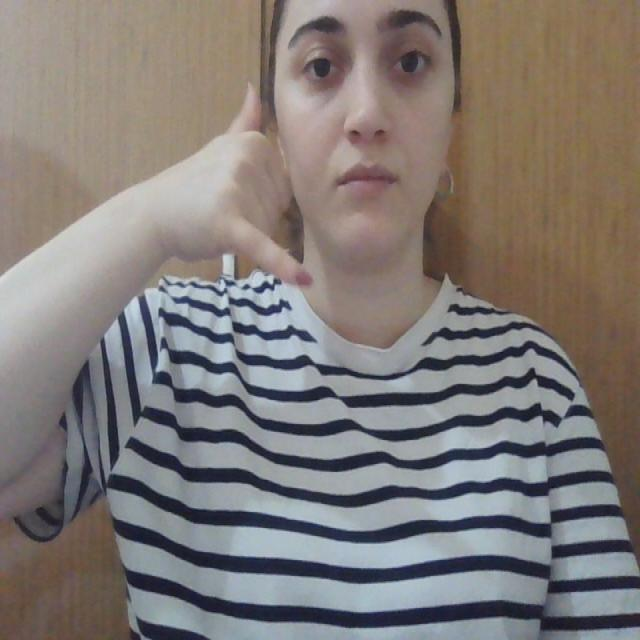Telefon: (185, 52, 327, 314)
